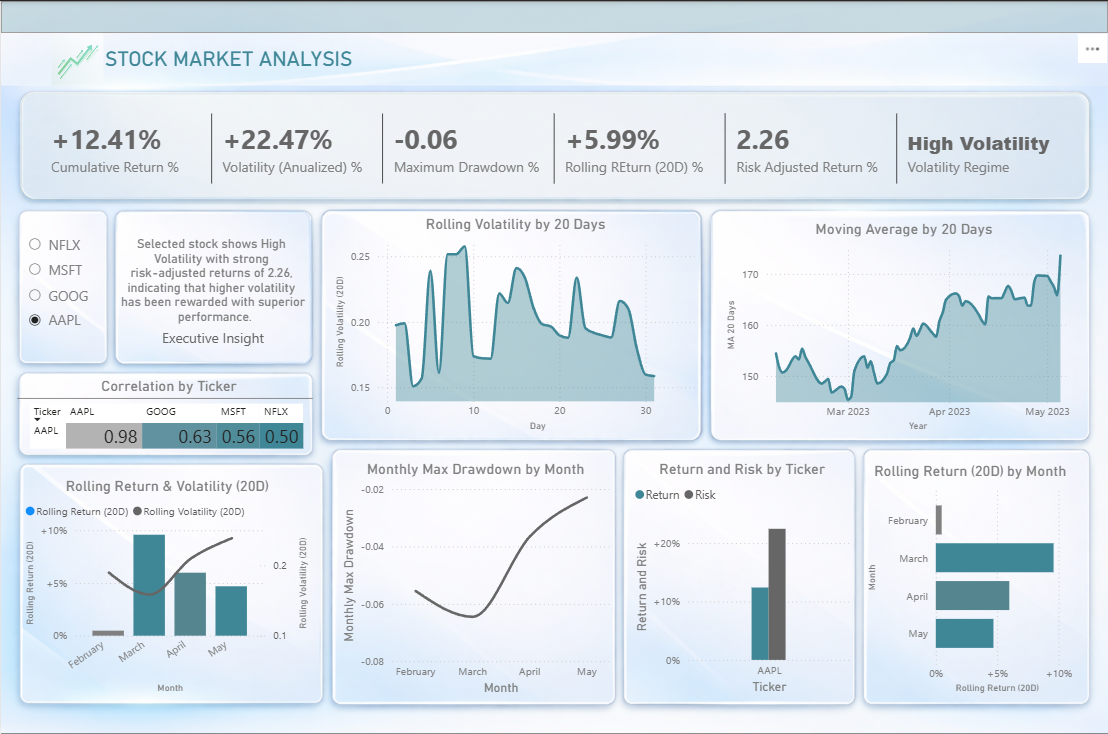

Layout of this report page (visuals, bound fields, positions):
{"tool":"powerbi","page":{"name":"Page 1","canvas":[1280,848],"ordinal":0},"visuals":[{"type":"slicer","fields":{"Values":["stocks.Ticker"]},"box":[19.2,247.7,103.1,174.6],"z":0},{"type":"clusteredColumnChart","fields":{"Category":["stocks.Ticker"],"Y":["stocks.Cumulative Return %","stocks.Volatility (Annualised)"]},"box":[721.1,522.2,265.6,290],"z":1000},{"type":"lineChart","title":"Moving Average by 20 Days","fields":{"Y":["stocks.MA 20 Days"],"Category":["stocks.Date.Variation.Date Hierarchy.Year","stocks.Date.Variation.Date Hierarchy.Quarter","stocks.Date.Variation.Date Hierarchy.Month","stocks.Date.Variation.Date Hierarchy.Day"]},"box":[823.3,252.5,431.7,250],"z":2000},{"type":"pivotTable","title":"Correlation by Ticker","fields":{"Rows":["stocks.Ticker"],"Columns":["Tickers_2.Ticker"],"Values":["stocks.Correlation"]},"box":[19.4,418.8,341.9,120],"z":3000},{"type":"clusteredBarChart","fields":{"Category":["stocks.Date.Variation.Date Hierarchy.Year","stocks.Date.Variation.Date Hierarchy.Quarter","stocks.Date.Variation.Date Hierarchy.Month","stocks.Date.Variation.Date Hierarchy.Day"],"Y":["stocks.Rolling Return (20D)"]},"box":[997.8,521.1,257.8,291.1],"z":4000},{"type":"lineChart","title":"Rolling Volatility by 20 Days","fields":{"Category":["stocks.Date.Variation.Date Hierarchy.Year","stocks.Date.Variation.Date Hierarchy.Quarter","stocks.Date.Variation.Date Hierarchy.Month","stocks.Date.Variation.Date Hierarchy.Day"],"Y":["stocks.Rolling Volatility (20D)"]},"box":[370.9,247.3,438.2,262.7],"z":5000},{"type":"lineClusteredColumnComboChart","title":"Rolling Return & Volatility (20D)","fields":{"Category":["stocks.Date.Variation.Date Hierarchy.Year","stocks.Date.Variation.Date Hierarchy.Quarter","stocks.Date.Variation.Date Hierarchy.Month","stocks.Date.Variation.Date Hierarchy.Day"],"Y":["stocks.Rolling Return (20D)"],"Y2":["stocks.Rolling Volatility (20D)"]},"box":[22.5,538.8,348.8,273.8],"z":6000},{"type":"card","fields":{"Values":["stocks.Executive Insight"]},"box":[132.3,247.7,224.6,171.5],"z":7000},{"type":"lineChart","fields":{"Category":["stocks.Date.Variation.Date Hierarchy.Year","stocks.Date.Variation.Date Hierarchy.Quarter","stocks.Date.Variation.Date Hierarchy.Month","stocks.Date.Variation.Date Hierarchy.Day"],"Y":["stocks.Monthly Max Drawdown"]},"box":[383.3,521.1,325.6,291.1],"z":8000},{"type":"cardVisual","fields":{"Data":["stocks.Cumulative Return %","stocks.Volatility (Annualised)","stocks.Maximum Drawdown %","stocks.Rolling Return (20D)","stocks.Risk Adjusted Return (Fixed)","stocks.Volatility Regime"]},"box":[22.5,106.7,1238.3,127.5],"z":9000},{"type":"textbox","box":[78.3,48.3,333.3,40],"z":10000},{"type":"shape","box":[0,0,1280,37.1],"z":10001},{"type":"image","box":[52.9,37.1,70,60],"z":10002}]}

Visuals, with their boxes in screenshot pixels (x1, y1, x2, y2), scaled from the page's 1280x848 canvas onto the 1108x734 screenshot:
slicer - stocks.Ticker: [17,214,106,366]
clusteredColumnChart - stocks.Ticker x stocks.Cumulative Return %: [624,452,854,703]
"Moving Average by 20 Days" lineChart: [713,219,1086,435]
"Correlation by Ticker" pivotTable: [17,362,313,466]
clusteredBarChart - stocks.Date.Variation.Date Hierarchy.Year x stocks.Date.Variation.Date Hierarchy.Quarter: [864,451,1087,703]
"Rolling Volatility by 20 Days" lineChart: [321,214,700,441]
"Rolling Return & Volatility (20D)" lineClusteredColumnComboChart: [19,466,321,703]
card - stocks.Executive Insight: [115,214,309,363]
lineChart - stocks.Date.Variation.Date Hierarchy.Year x stocks.Date.Variation.Date Hierarchy.Quarter: [332,451,614,703]
cardVisual - stocks.Cumulative Return % x stocks.Volatility (Annualised): [19,92,1091,203]
textbox: [68,42,356,76]
shape: [0,0,1107,32]
image: [46,32,106,84]
